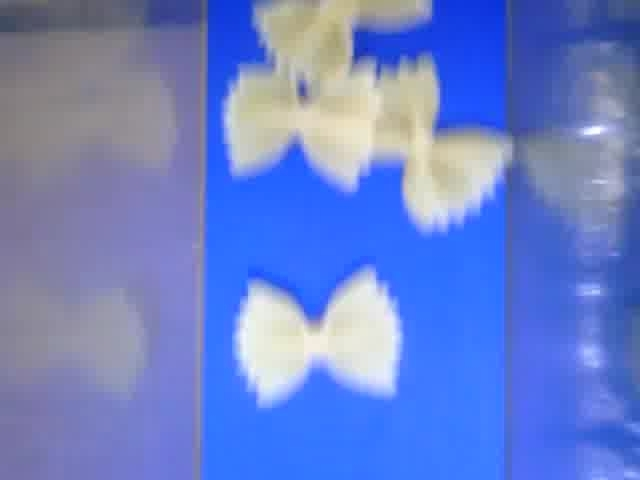farfalle: (367, 55, 516, 233), (235, 262, 403, 404), (226, 63, 385, 194), (251, 1, 444, 79)
